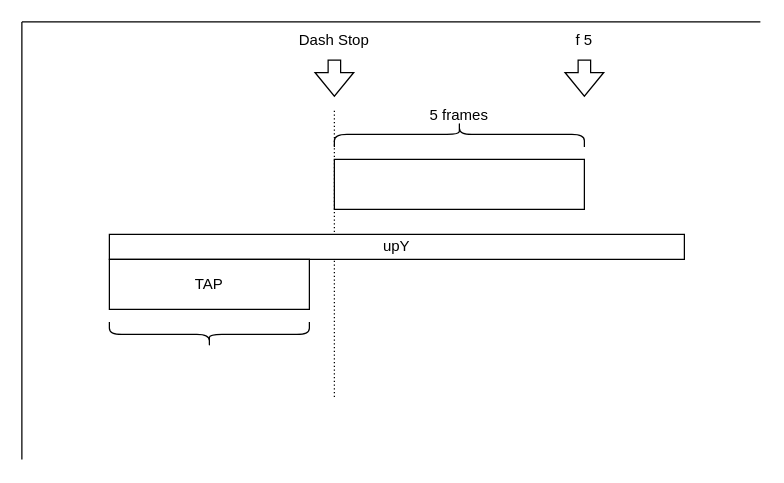
The diagram is 784 pixels wide and 483 high, and some of its shapes have lost their labels. Each missing label, with the centre of its shape:
4 frames: (208,334)
FORCE_FTILT: (458,183)
